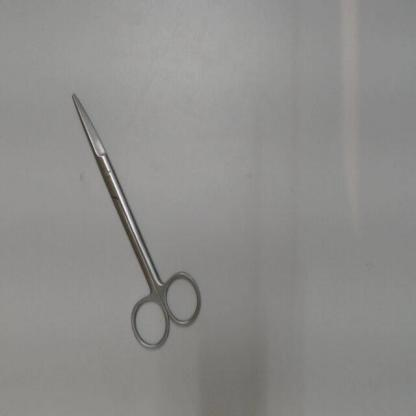Curved Mayo Scissors: (64, 86, 209, 360)
